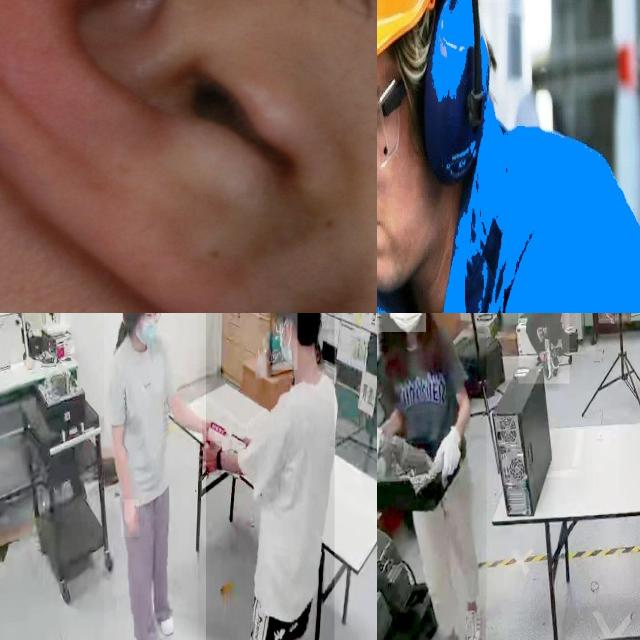Ear-protection: (435, 0, 499, 216)
No_Ear-Protection: (0, 0, 377, 313)
face_mask: (272, 313, 297, 369), (131, 313, 160, 352), (380, 313, 425, 332)
hand_glove: (430, 429, 470, 483), (377, 421, 390, 486)
hand_noglove: (200, 441, 222, 476), (121, 500, 139, 538), (202, 420, 216, 450)
head_helmet: (377, 64, 428, 178)
person: (206, 313, 335, 640), (377, 313, 486, 640), (104, 313, 198, 640), (518, 313, 569, 384)
shoes: (147, 592, 177, 638), (462, 590, 482, 640), (130, 615, 163, 640)
